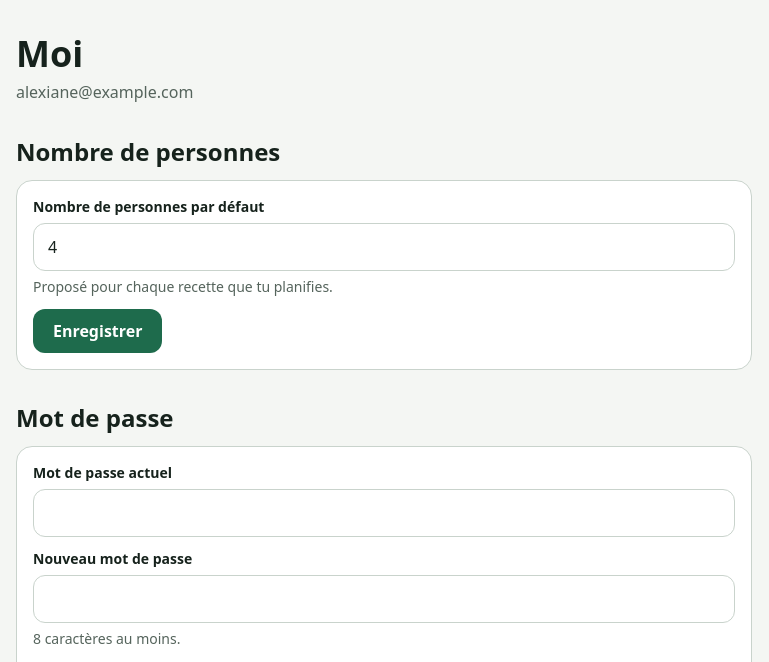
réglages du compte › affiche tel quel un autre refus de validation du back
The width and height of the screenshot is (769, 662).
In the password field labelled "Mot de passe actuel": (384, 513) [33,489,735,537], type "ancien-mdp"
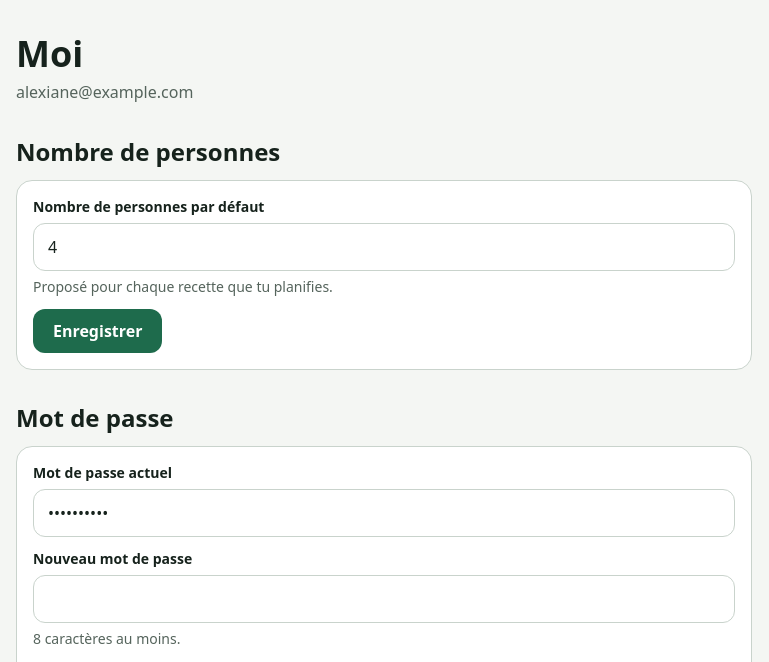
In the password field labelled "Nouveau mot de passe": (384, 599) [33,575,735,623], type "12345678"
(page scrolled)
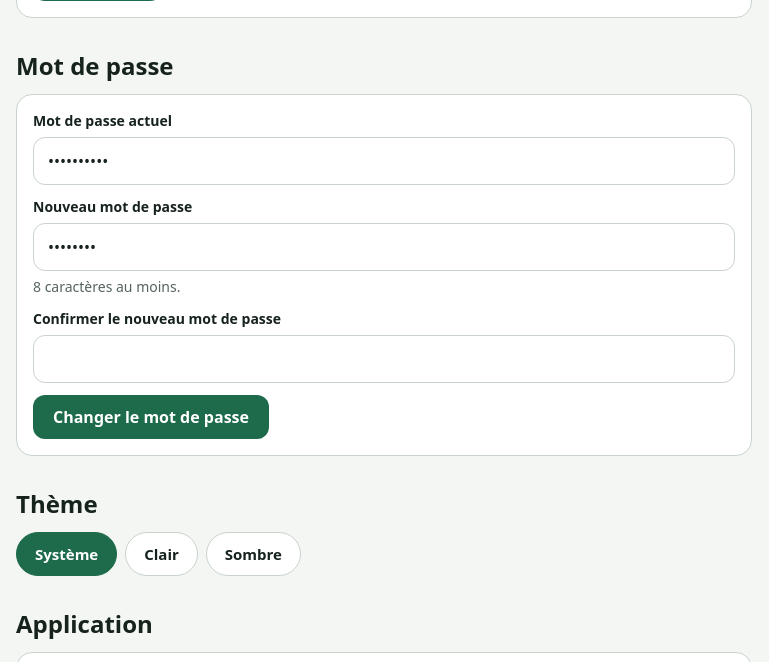
In the password field labelled "Confirmer le nouveau mot de passe": (384, 359) [33,335,735,383], type "12345678"
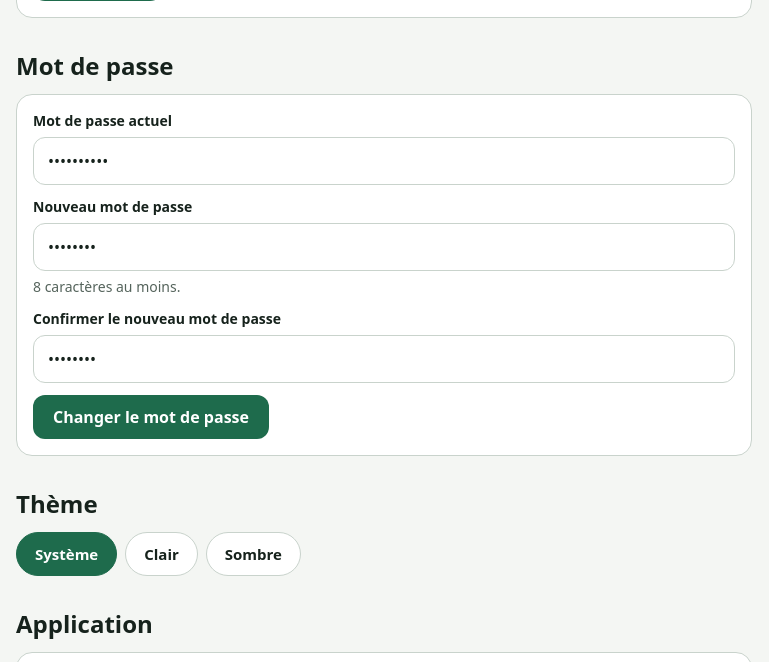
Submit the form that starts with "Mot de passe actuel", box [16,94,752,456]
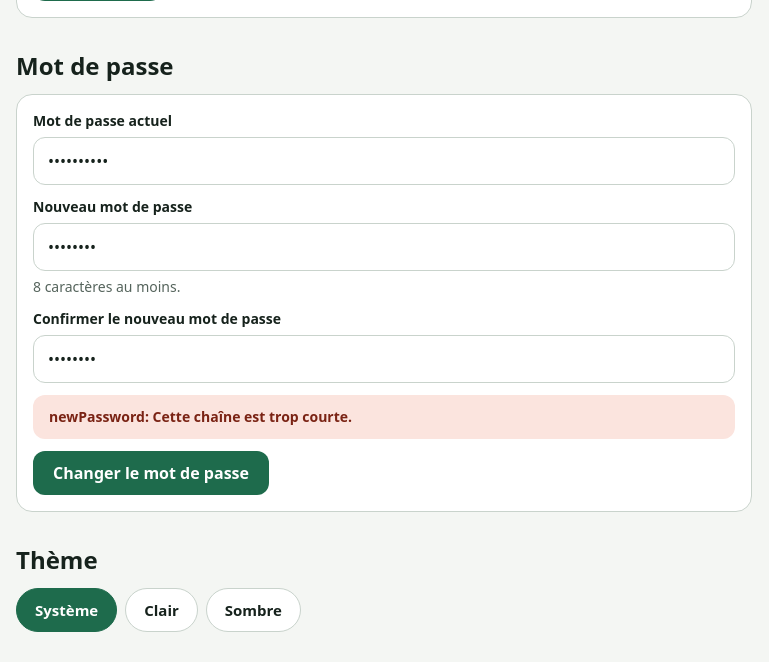
Now the message "newPassword: Cette chaîne est trop courte." is shown, box [33,395,735,439]
